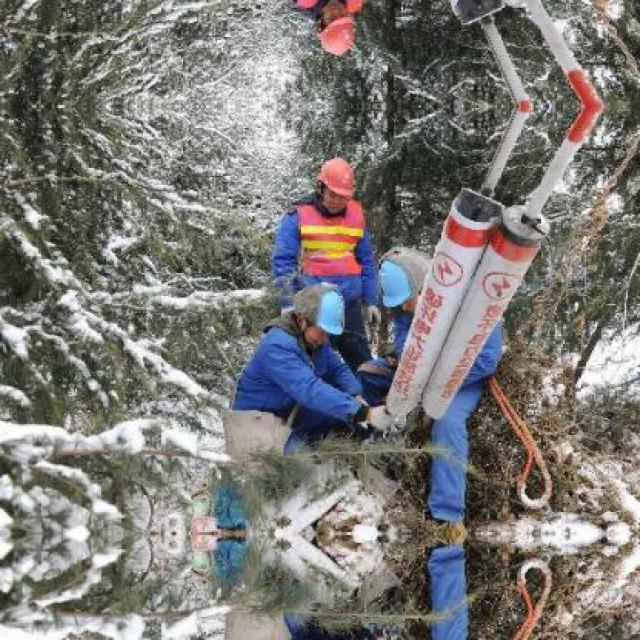Reflective-Jacket: (288, 199, 372, 282)
Safety-Helmet: (372, 250, 423, 311), (313, 151, 362, 202), (309, 284, 349, 338)
